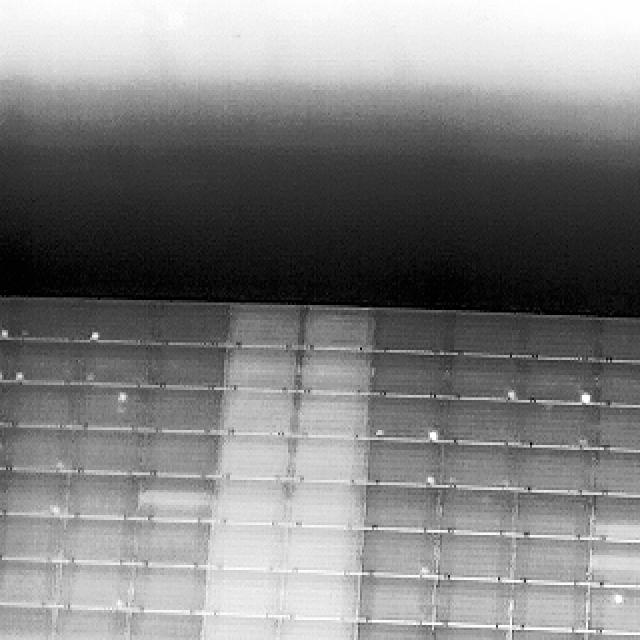Hotspots: (2, 363, 28, 382), (108, 587, 127, 609), (85, 319, 103, 342), (419, 469, 438, 489), (44, 501, 64, 517), (426, 426, 442, 444), (417, 559, 432, 577), (579, 390, 594, 406), (611, 590, 627, 604), (504, 386, 518, 400), (1, 324, 10, 342), (115, 392, 128, 404)
PV-modules: (437, 399, 526, 447), (1, 297, 97, 341), (3, 339, 92, 386), (371, 310, 457, 358), (140, 389, 225, 437), (358, 573, 436, 625), (508, 580, 588, 630), (132, 564, 210, 614), (434, 577, 512, 627), (358, 530, 436, 580), (438, 487, 517, 536), (524, 400, 601, 450), (142, 429, 222, 477), (286, 528, 362, 578), (510, 539, 590, 586), (437, 535, 515, 583), (56, 561, 132, 610), (292, 436, 369, 484), (521, 447, 598, 495), (152, 304, 234, 349), (439, 446, 521, 491), (514, 491, 594, 537), (363, 485, 439, 533), (519, 316, 600, 361), (148, 345, 228, 390), (450, 315, 530, 360), (367, 351, 447, 396), (516, 357, 591, 405), (2, 384, 82, 429), (211, 526, 287, 573), (131, 523, 210, 568), (279, 570, 353, 618), (73, 426, 147, 474), (220, 387, 292, 436), (206, 568, 281, 615), (138, 476, 216, 521), (290, 483, 366, 529), (2, 426, 77, 472), (225, 346, 300, 392), (0, 466, 68, 516), (216, 478, 288, 525), (220, 434, 293, 480), (362, 441, 435, 487), (299, 348, 370, 395), (68, 520, 137, 568), (2, 518, 68, 567), (448, 353, 518, 399), (302, 309, 373, 354), (364, 396, 435, 441), (228, 306, 302, 349), (70, 474, 142, 518), (296, 396, 369, 439), (88, 341, 152, 389), (95, 303, 160, 345), (0, 558, 56, 606), (584, 590, 640, 635), (50, 607, 126, 640), (586, 545, 640, 587), (594, 450, 640, 498), (126, 612, 204, 640), (596, 405, 640, 453), (76, 388, 126, 430), (594, 360, 640, 405), (592, 495, 640, 537), (596, 318, 640, 362), (202, 615, 278, 640), (276, 615, 350, 640), (0, 605, 50, 640), (354, 625, 438, 640), (428, 625, 508, 640), (506, 627, 586, 640), (586, 630, 640, 640)
